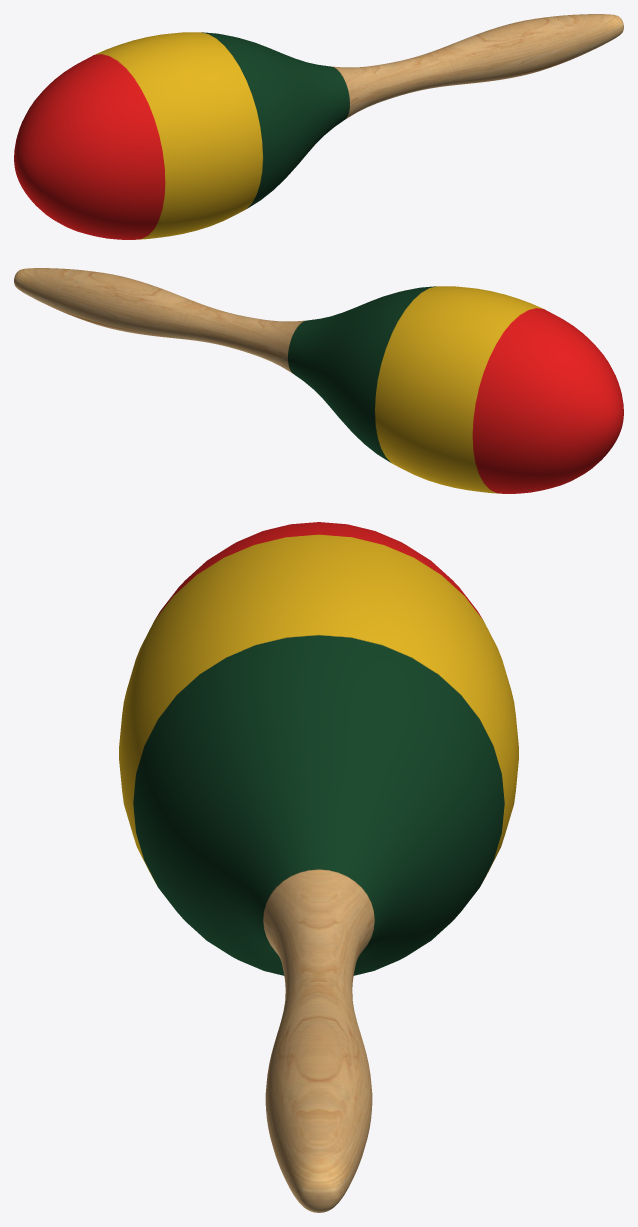
The model's file is Mexico.glb.
3 views of the same model, one above another, from view 1: azimuth 30°, elevation 25°; view 2: azimuth 150°, elevation 25°; view 3: azimuth 270°, elevation 25° (orthographic). The views are drawn at different scales.
Parts seen in each view (by area): view 1: maracas_02; view 2: maracas_02; view 3: maracas_02.
Boxes of the visible parts, x1=… form: maracas_02: x1=14, y1=14, x2=623, y2=239; maracas_02: x1=14, y1=268, x2=623, y2=493; maracas_02: x1=119, y1=522, x2=518, y2=1212.
Size of the model in its own units: 27.44 by 7.91 by 7.91.
Materials: 1 (1 with a texture image).
